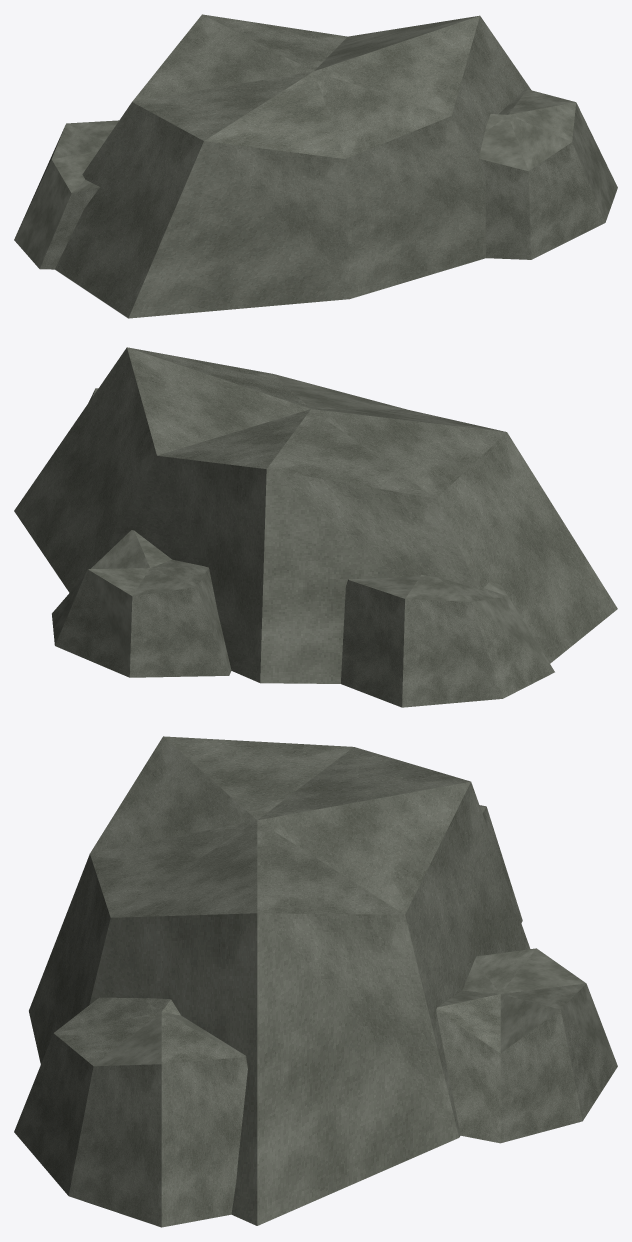
The model's file is broken_stones.gltf.
The picture shows the model from 3 angles, top to bottom: view 1: azimuth 30°, elevation 25°; view 2: azimuth 150°, elevation 25°; view 3: azimuth 270°, elevation 25°; orthographic projection. The views are drawn at different scales.
Parts seen in each view (by area): view 1: broken_stones; view 2: broken_stones; view 3: broken_stones.
Part boxes in pixels (x1=…): broken_stones: x1=14, y1=14, x2=617, y2=318; broken_stones: x1=14, y1=347, x2=617, y2=707; broken_stones: x1=14, y1=736, x2=617, y2=1227.
Bounding box in the file's own units: 0.968 × 0.3085 × 0.6952.
Materials: 1 (1 with a texture image).
